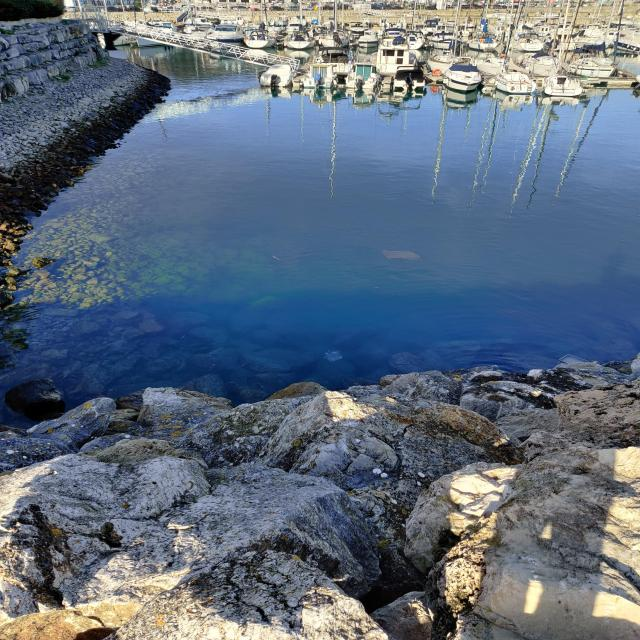litter: (378, 247, 421, 263), (555, 351, 596, 366), (323, 348, 345, 364), (269, 253, 283, 261)
